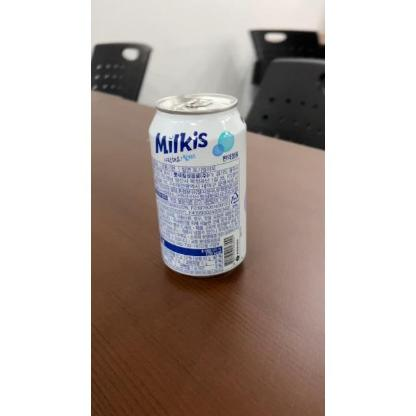Can: (150, 93, 250, 277)
